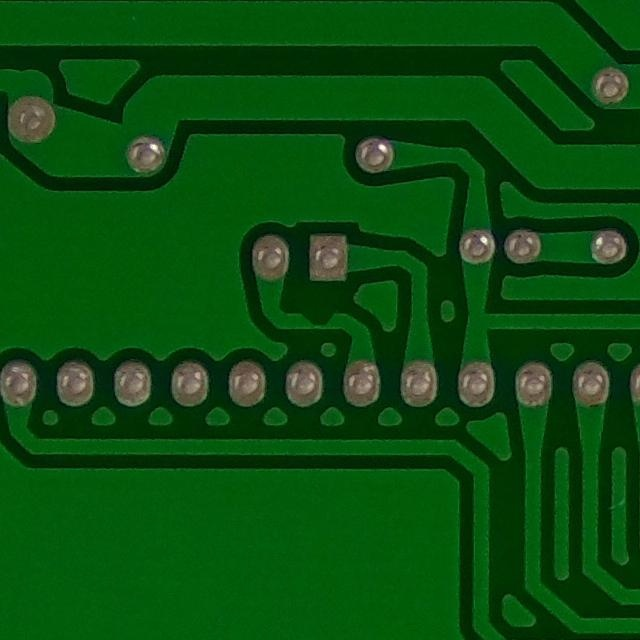mouse_bite: (292, 303, 348, 337)
